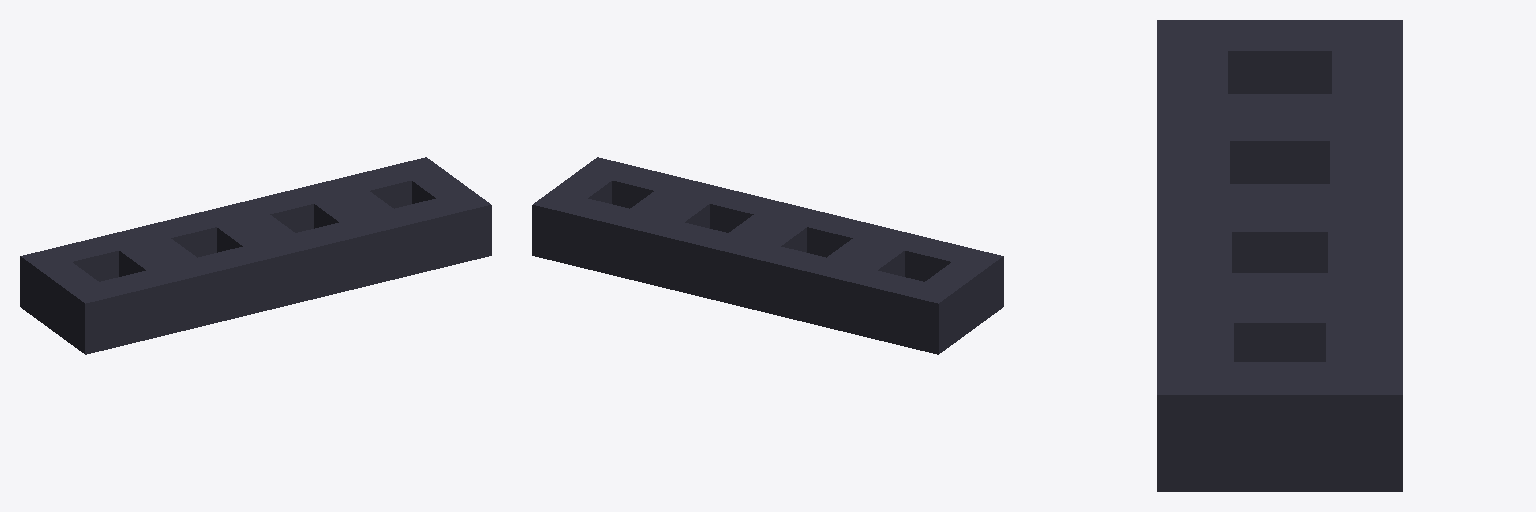
URDF robot description (board):
<?xml version="1.0"?>
<!-- Generated by aegis_gym.aux.pih_assets, do not edit: change nominal.yaml (or the overrides) and run python3 -m scripts.peg_in_hole.generate_assets. -->
<robot name="board">
  <link name="board_link">
    <visual>
      <geometry>
        <mesh filename="board.stl" />
      </geometry>
      <material name="board_color">
        <color rgba="0.25 0.25 0.3 1" />
      </material>
    </visual>
    <collision>
      <origin xyz="-0.1145 0 -0.015" rpy="0 0 0" />
      <geometry>
        <box size="0.02 0.069 0.03" />
      </geometry>
    </collision>
    <collision>
      <origin xyz="-0.09 -0.0245 -0.015" rpy="0 0 0" />
      <geometry>
        <box size="0.029 0.02 0.03" />
      </geometry>
    </collision>
    <collision>
      <origin xyz="-0.09 0.0245 -0.015" rpy="0 0 0" />
      <geometry>
        <box size="0.029 0.02 0.03" />
      </geometry>
    </collision>
    <collision>
      <origin xyz="-0.05975 0 -0.015" rpy="0 0 0" />
      <geometry>
        <box size="0.0315 0.069 0.03" />
      </geometry>
    </collision>
    <collision>
      <origin xyz="-0.03 -0.02425 -0.015" rpy="0 0 0" />
      <geometry>
        <box size="0.028 0.0205 0.03" />
      </geometry>
    </collision>
    <collision>
      <origin xyz="-0.03 0.02425 -0.015" rpy="0 0 0" />
      <geometry>
        <box size="0.028 0.0205 0.03" />
      </geometry>
    </collision>
    <collision>
      <origin xyz="0.00025 0 -0.015" rpy="0 0 0" />
      <geometry>
        <box size="0.0325 0.069 0.03" />
      </geometry>
    </collision>
    <collision>
      <origin xyz="0.03 -0.024 -0.015" rpy="0 0 0" />
      <geometry>
        <box size="0.027 0.021 0.03" />
      </geometry>
    </collision>
    <collision>
      <origin xyz="0.03 0.024 -0.015" rpy="0 0 0" />
      <geometry>
        <box size="0.027 0.021 0.03" />
      </geometry>
    </collision>
    <collision>
      <origin xyz="0.06025 0 -0.015" rpy="0 0 0" />
      <geometry>
        <box size="0.0335 0.069 0.03" />
      </geometry>
    </collision>
    <collision>
      <origin xyz="0.09 -0.02375 -0.015" rpy="0 0 0" />
      <geometry>
        <box size="0.026 0.0215 0.03" />
      </geometry>
    </collision>
    <collision>
      <origin xyz="0.09 0.02375 -0.015" rpy="0 0 0" />
      <geometry>
        <box size="0.026 0.0215 0.03" />
      </geometry>
    </collision>
    <collision>
      <origin xyz="0.11375 0 -0.015" rpy="0 0 0" />
      <geometry>
        <box size="0.0215 0.069 0.03" />
      </geometry>
    </collision>
    <collision>
      <origin xyz="-0.09 0 -0.0275" rpy="0 0 0" />
      <geometry>
        <box size="0.029 0.029 0.005" />
      </geometry>
    </collision>
    <collision>
      <origin xyz="-0.03 0 -0.0275" rpy="0 0 0" />
      <geometry>
        <box size="0.028 0.028 0.005" />
      </geometry>
    </collision>
    <collision>
      <origin xyz="0.03 0 -0.0275" rpy="0 0 0" />
      <geometry>
        <box size="0.027 0.027 0.005" />
      </geometry>
    </collision>
    <collision>
      <origin xyz="0.09 0 -0.0275" rpy="0 0 0" />
      <geometry>
        <box size="0.026 0.026 0.005" />
      </geometry>
    </collision>
    <inertial>
      <origin xyz="0.00093818231441 0 -0.0154307109716" rpy="0 0 0" />
      <mass value="0.5452032" />
      <inertia ixx="0.000289962280896" ixy="0" ixz="-1.49905866198e-06" iyy="0.00291501636464" iyz="0" izz="0.00312026944895" />
    </inertial>
  </link>
</robot>

--- Render facts (derived) ---
3 views of the same robot in one strip: view 1: azimuth 30°, elevation 25°; view 2: azimuth 150°, elevation 25°; view 3: azimuth 270°, elevation 25° (orthographic).
Model board with 1 links and 0 joints (none), rooted at board_link, posed every joint at zero.
Links seen in each view (by area): view 1: board_link; view 2: board_link; view 3: board_link.
Link boxes in pixels (left/top/right/bottom): board_link: left=20, top=157, right=491, bottom=354; board_link: left=532, top=157, right=1003, bottom=354; board_link: left=1157, top=20, right=1402, bottom=491.
Bounding box of the posed robot: 0.249 × 0.069 × 0.03 m (x, y, z).
1 mesh visuals loaded from 1 distinct referenced files (1 binary STL).
